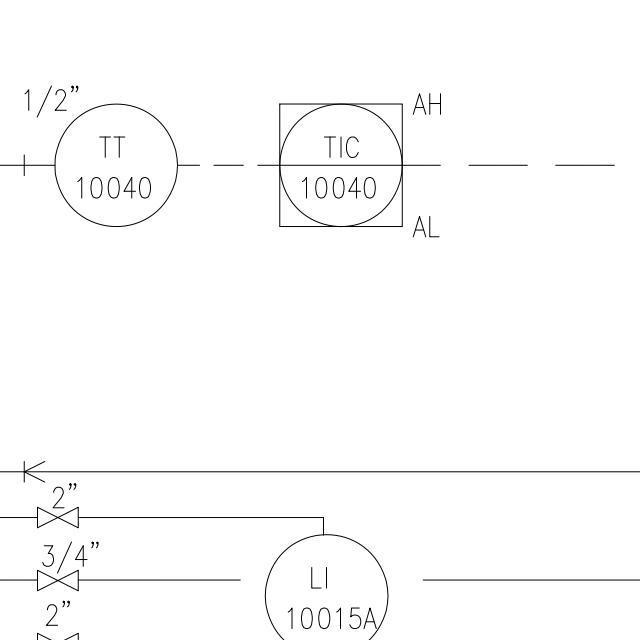GV: (31, 566, 84, 596), (30, 503, 85, 531)
